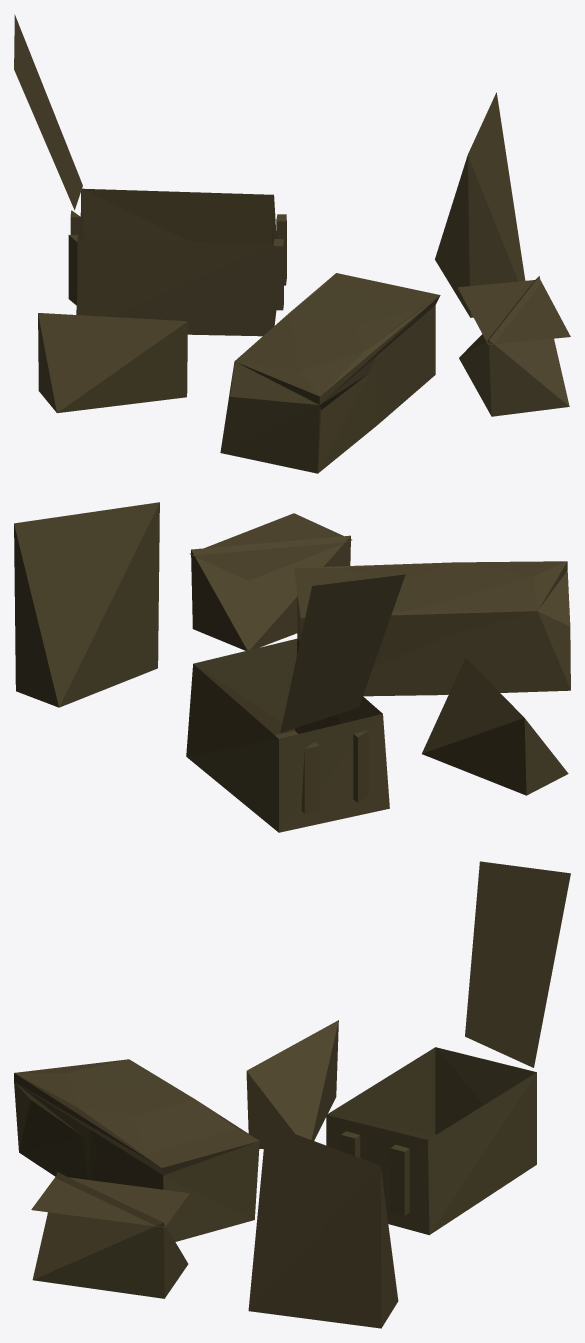
Rendered from ammo-stack.lod2.glb.
3 views of the same model, one above another, from view 1: azimuth 30°, elevation 25°; view 2: azimuth 150°, elevation 25°; view 3: azimuth 270°, elevation 25° (orthographic). The views are drawn at different scales.
Visible parts, largest first — view 1: Object_4; view 2: Object_4; view 3: Object_4.
Part boxes in pixels (<box>): Object_4: <box>14,14,570,473</box>; Object_4: <box>14,502,570,832</box>; Object_4: <box>14,861,570,1328</box>.
Bounding box in the file's own units: 4.85 × 2.53 × 4.75.
